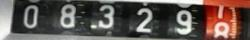digits: (212, 2, 230, 40), (174, 9, 194, 34), (134, 8, 154, 32), (59, 3, 76, 28), (22, 4, 38, 28), (98, 4, 114, 27)
